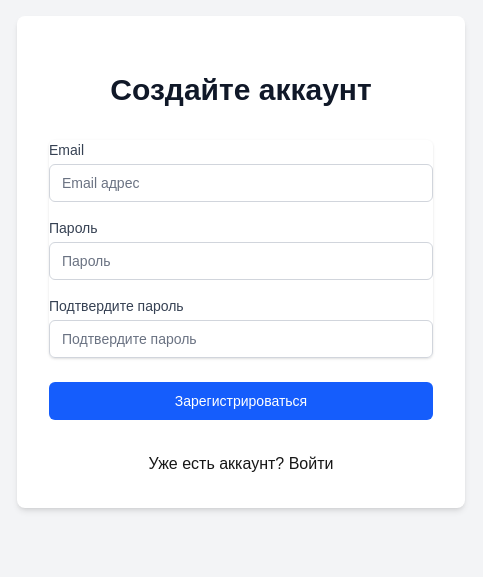
it: SignUpContent › показывает ошибку сервера при неудачной регистрации
Type "test@example.com" into the field labelled "Email" at (241, 183), box x1=49 y1=164 x2=433 y2=202
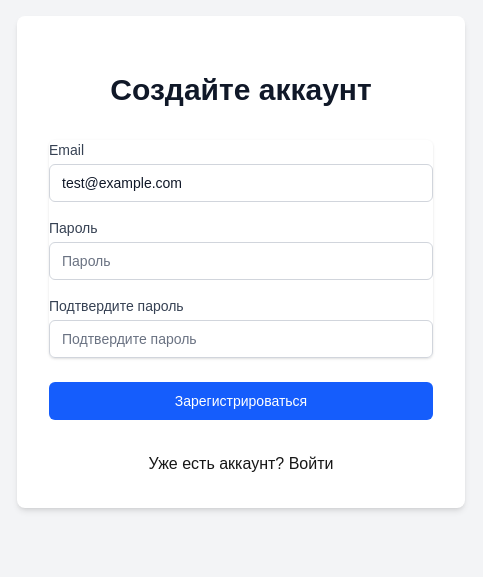
Type "password123" into the password field labelled "Пароль" at (241, 261), box x1=49 y1=242 x2=433 y2=280
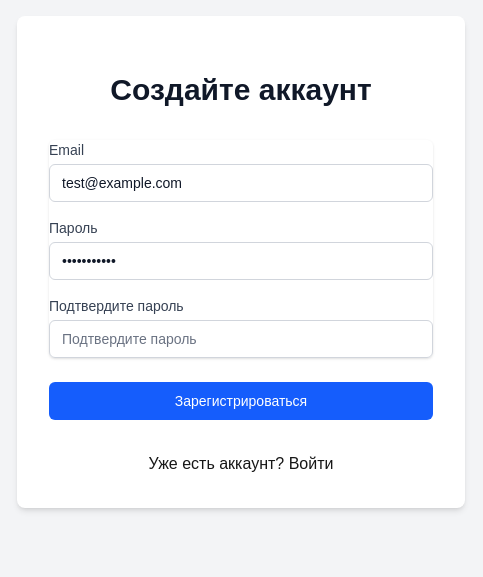
Type "password123" into the password field labelled "Подтвердите пароль" at (241, 339), box x1=49 y1=320 x2=433 y2=358
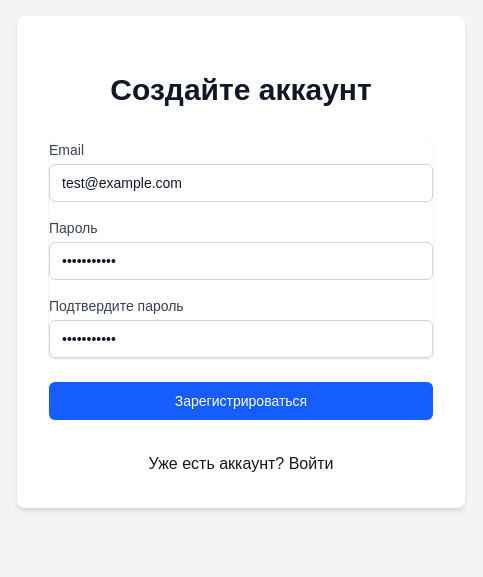
Click the button "Зарегистрироваться" at (241, 401), box x1=49 y1=382 x2=433 y2=420
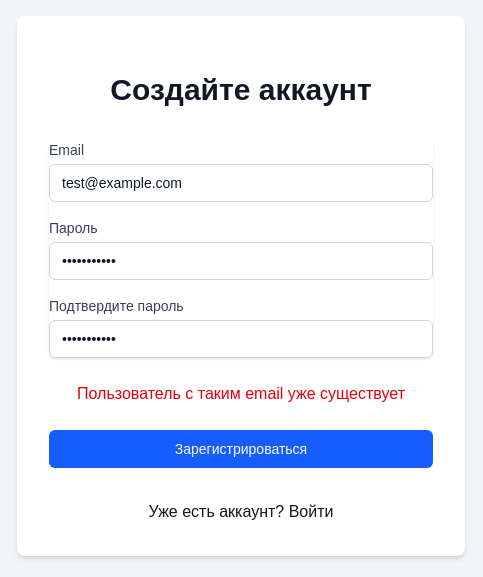
Expected: the text "Пользователь с таким email уже существует" is shown, x1=49 y1=382 x2=433 y2=406
